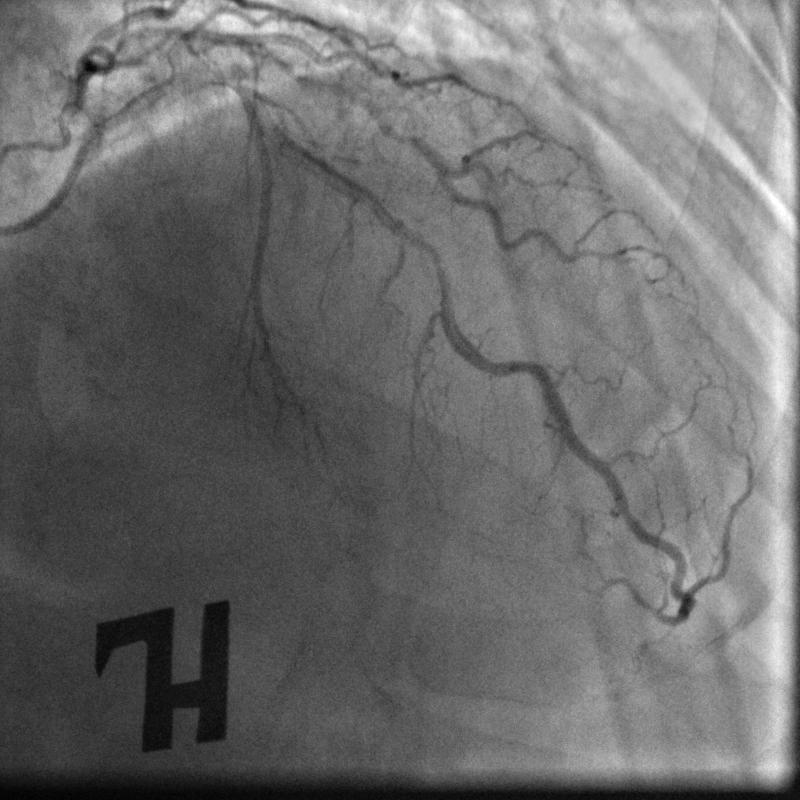Stenosis: (411, 231, 451, 304)
